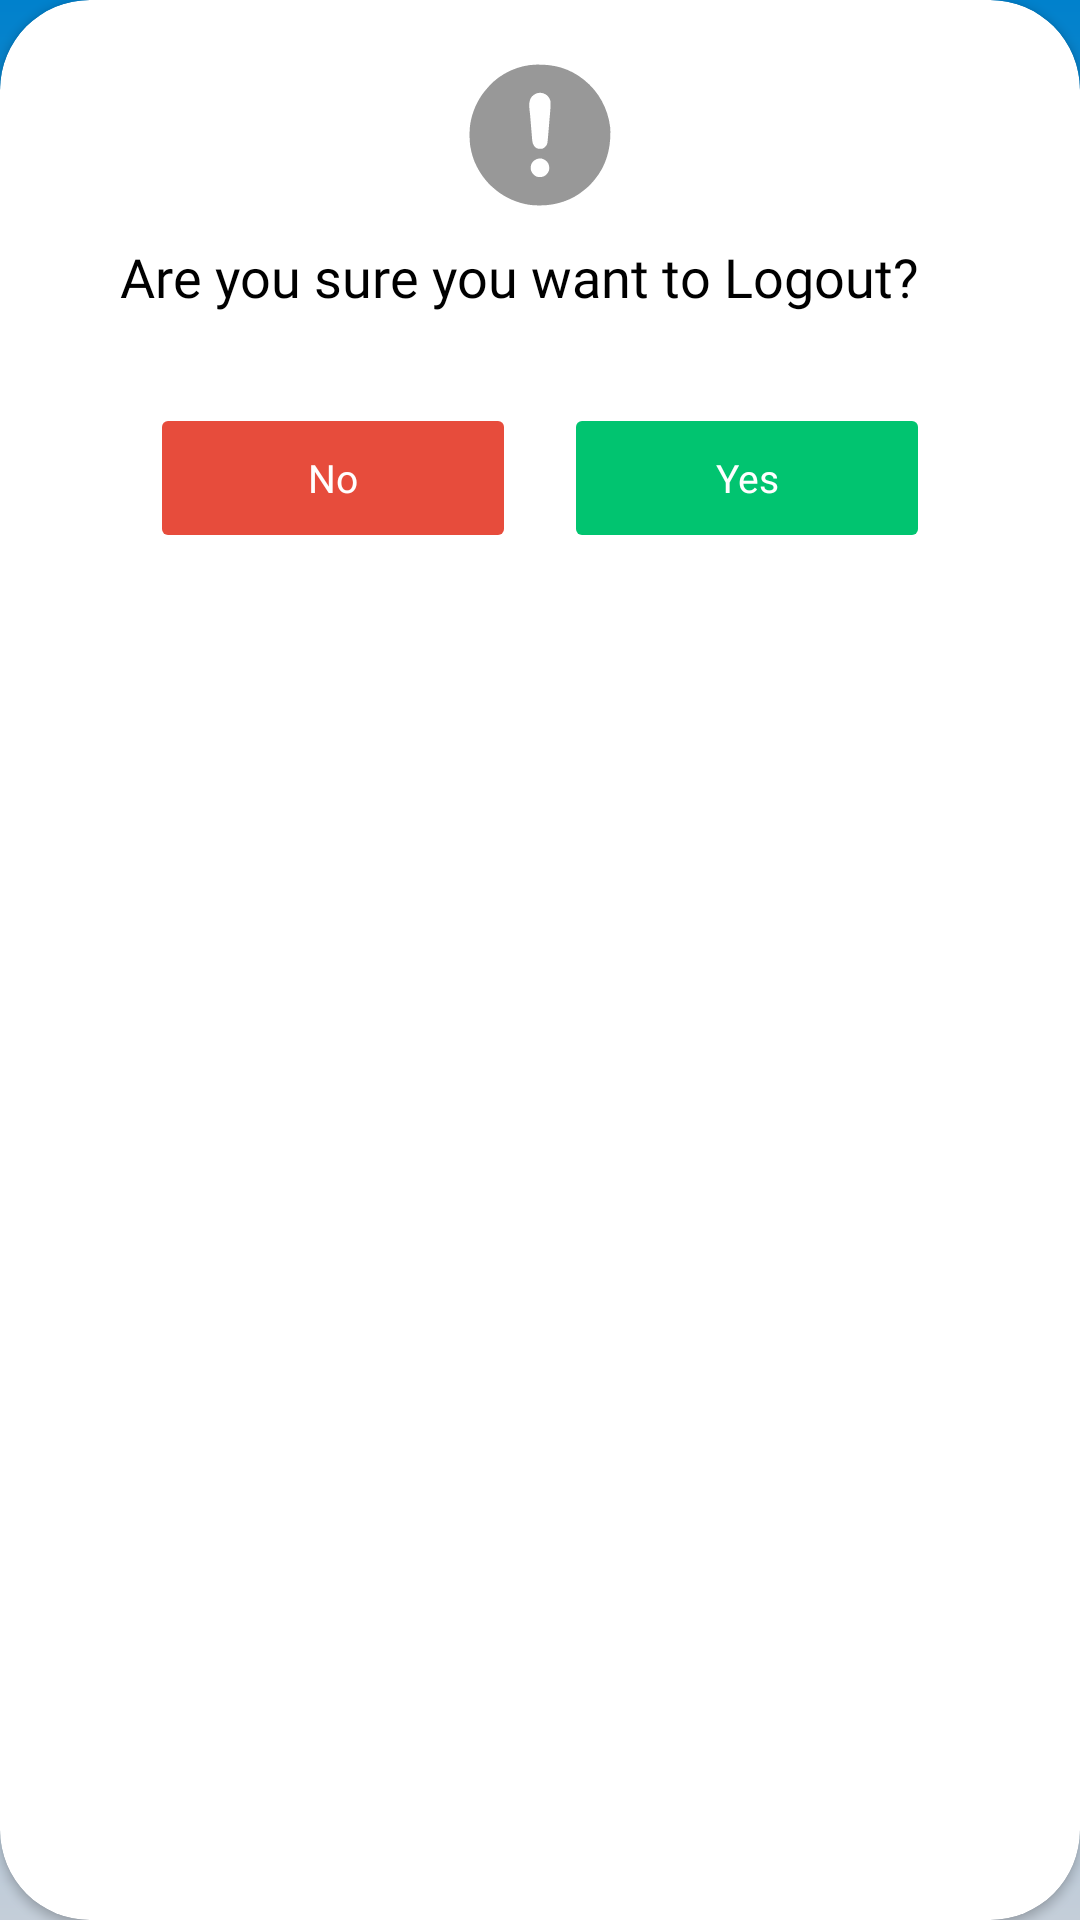

Locate icon controls on the screen. Image size 1080w x 1920h, boxes as (x1, y1, x2, y2).
warning: (469, 64, 611, 206)
